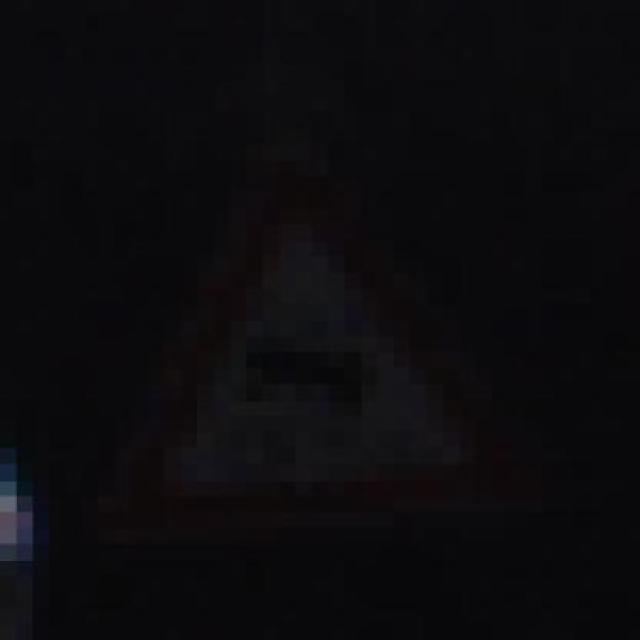Slippery Road Ahead: (82, 144, 526, 544)
